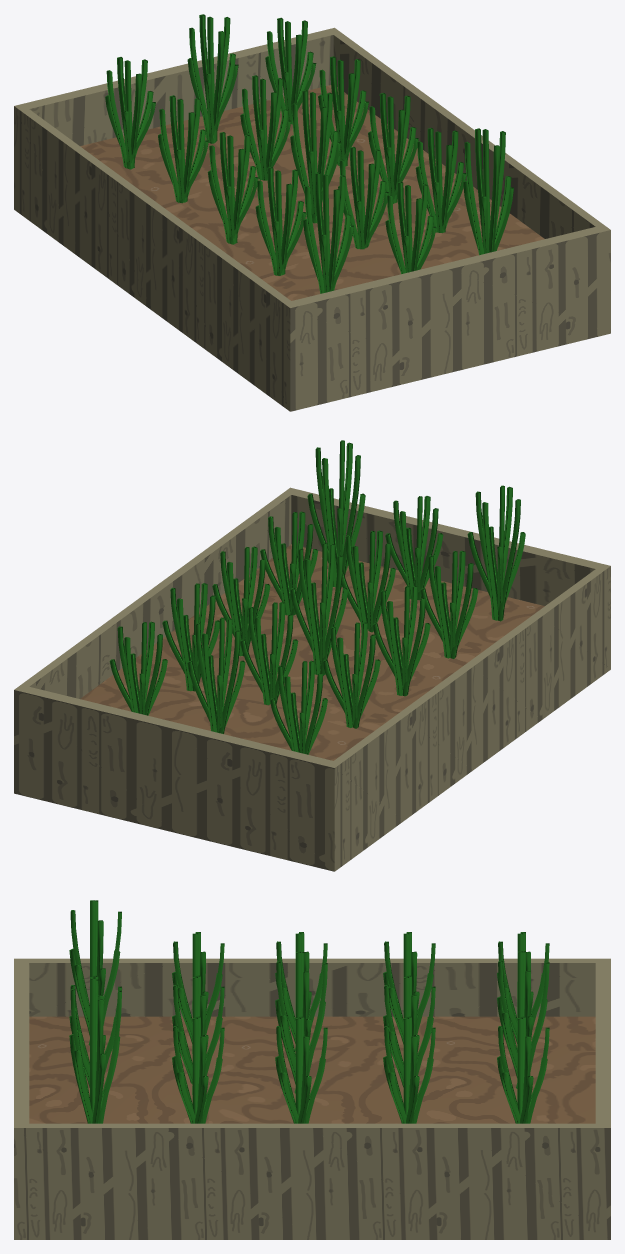
Rendered from garden-onions.fbx.
3 views of the same model, one above another, from view 1: azimuth 30°, elevation 25°; view 2: azimuth 150°, elevation 25°; view 3: azimuth 270°, elevation 25° (orthographic). The views are drawn at different scales.
Parts seen in each view (by area): view 1: Cube.176, Cube.004, Cube.185, Cube.187, Cube.186, Cube.183, Cube.189, Cube.191, Cube.188, Cube.190, Cube.184, Cube.177 (+5 smaller); view 2: Cube.176, Cube.004, Cube.187, Cube.185, Cube.183, Cube.186, Cube.189, Cube.188, Cube.190, Cube.184, Cube.191, Cube.180 (+5 smaller); view 3: Cube.176, Cube.004, Cube.185, Cube.178, Cube.179, Cube.177, Cube.180, Cube.187, Cube.183, Cube.186, Cube.190, Cube.188 (+5 smaller).
Boxes of the visible parts, box(x1,y1,x2,y2) form: Cube.176: box(14, 27, 610, 411); Cube.004: box(80, 85, 544, 300); Cube.185: box(463, 128, 513, 255); Cube.187: box(303, 172, 353, 293); Cube.186: box(187, 14, 238, 143); Cube.183: box(290, 90, 341, 223); Cube.189: box(207, 132, 258, 244); Cube.191: box(105, 57, 155, 169); Cube.188: box(255, 167, 306, 275); Cube.190: box(158, 95, 208, 203); Cube.184: box(240, 75, 291, 180); Cube.177: box(415, 127, 466, 232); Cube.176: box(14, 487, 610, 871); Cube.004: box(80, 544, 544, 760); Cube.187: box(467, 485, 525, 621); Cube.185: box(307, 440, 365, 587); Cube.183: box(290, 542, 347, 675); Cube.186: box(187, 617, 245, 733); Cube.189: box(372, 585, 430, 696); Cube.188: box(420, 550, 478, 658); Cube.190: box(322, 622, 380, 728); Cube.184: box(240, 602, 298, 705); Cube.191: box(269, 660, 327, 754); Cube.180: box(109, 621, 167, 715); Cube.176: box(14, 958, 610, 1239); Cube.004: box(29, 1016, 595, 1123); Cube.185: box(69, 978, 121, 1123); Cube.178: box(275, 1016, 327, 1123); Cube.179: box(383, 1016, 435, 1123); Cube.177: box(172, 1016, 224, 1123); Cube.180: box(497, 1016, 549, 1123); Cube.187: box(69, 900, 121, 1045); Cube.183: box(275, 951, 327, 1093); Cube.186: box(497, 951, 549, 1088); Cube.190: box(383, 932, 435, 1044); Cube.188: box(172, 932, 224, 1044).
Size of the model in its own units: 188 by 111 by 281.
